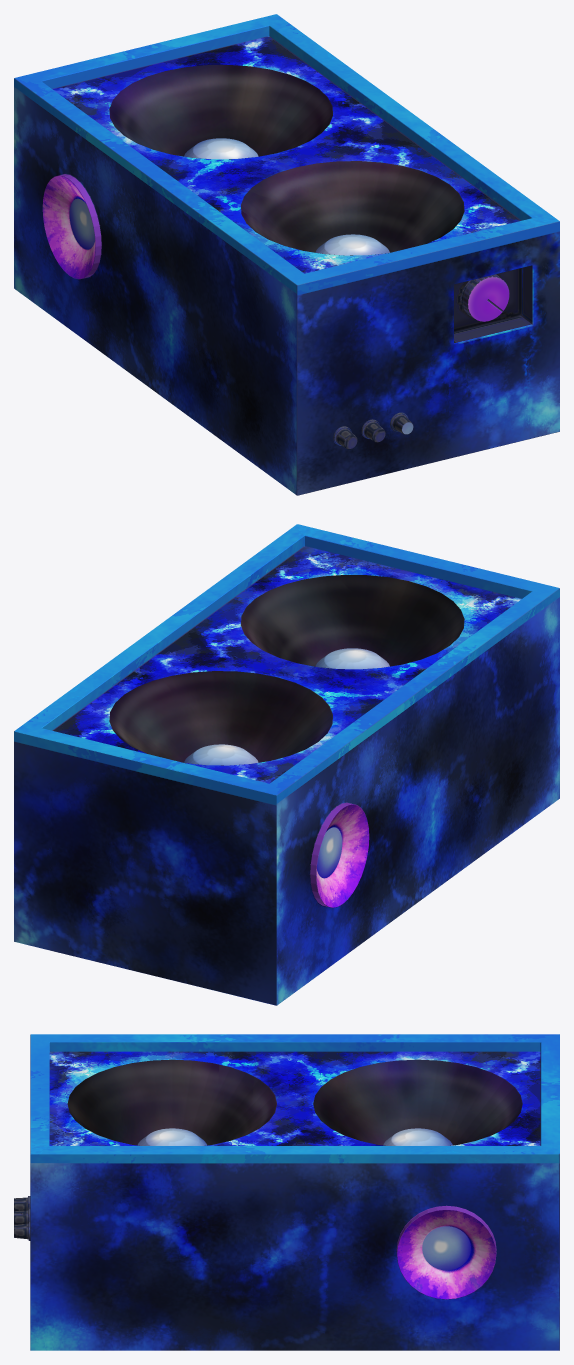
The model's file is electrician_arcana_backpack.fbx.
3 renders of one model, top to bottom at view 1: azimuth 30°, elevation 25°; view 2: azimuth 150°, elevation 25°; view 3: azimuth 270°, elevation 25°, orthographic. The views are drawn at different scales.
Parts seen in each view (by area): view 1: Cube; view 2: Cube; view 3: Cube.
Boxes of the visible parts, x1,y1,x2,y2 form: Cube: [14, 14, 559, 495]; Cube: [14, 524, 559, 1005]; Cube: [14, 1034, 559, 1350].
Bounding box in the file's own units: 243 × 177 × 445.
